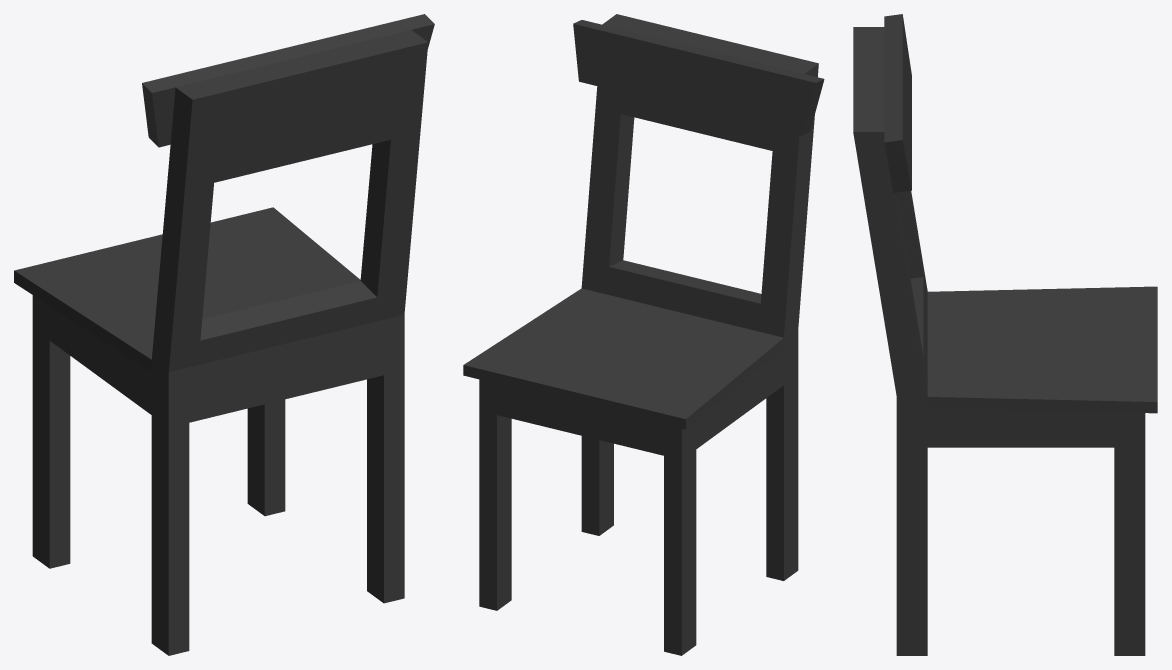
File: kitchen_chair.min.dae
3 views of the same model, side by side, from view 1: azimuth 30°, elevation 25°; view 2: azimuth 150°, elevation 25°; view 3: azimuth 270°, elevation 25° (orthographic). The views are drawn at different scales.
Visible parts, largest first — view 1: SketchUp (×2); view 2: SketchUp (×2); view 3: SketchUp (×2).
Boxes of the visible parts, bbox=[...] form: SketchUp (×2): bbox=[14, 14, 434, 655]; SketchUp (×2): bbox=[463, 14, 824, 655]; SketchUp (×2): bbox=[853, 14, 1157, 655].
Size of the model in its own units: 18.9 by 19.29 by 36.79.
Materials: 1 (1 with a texture image).
